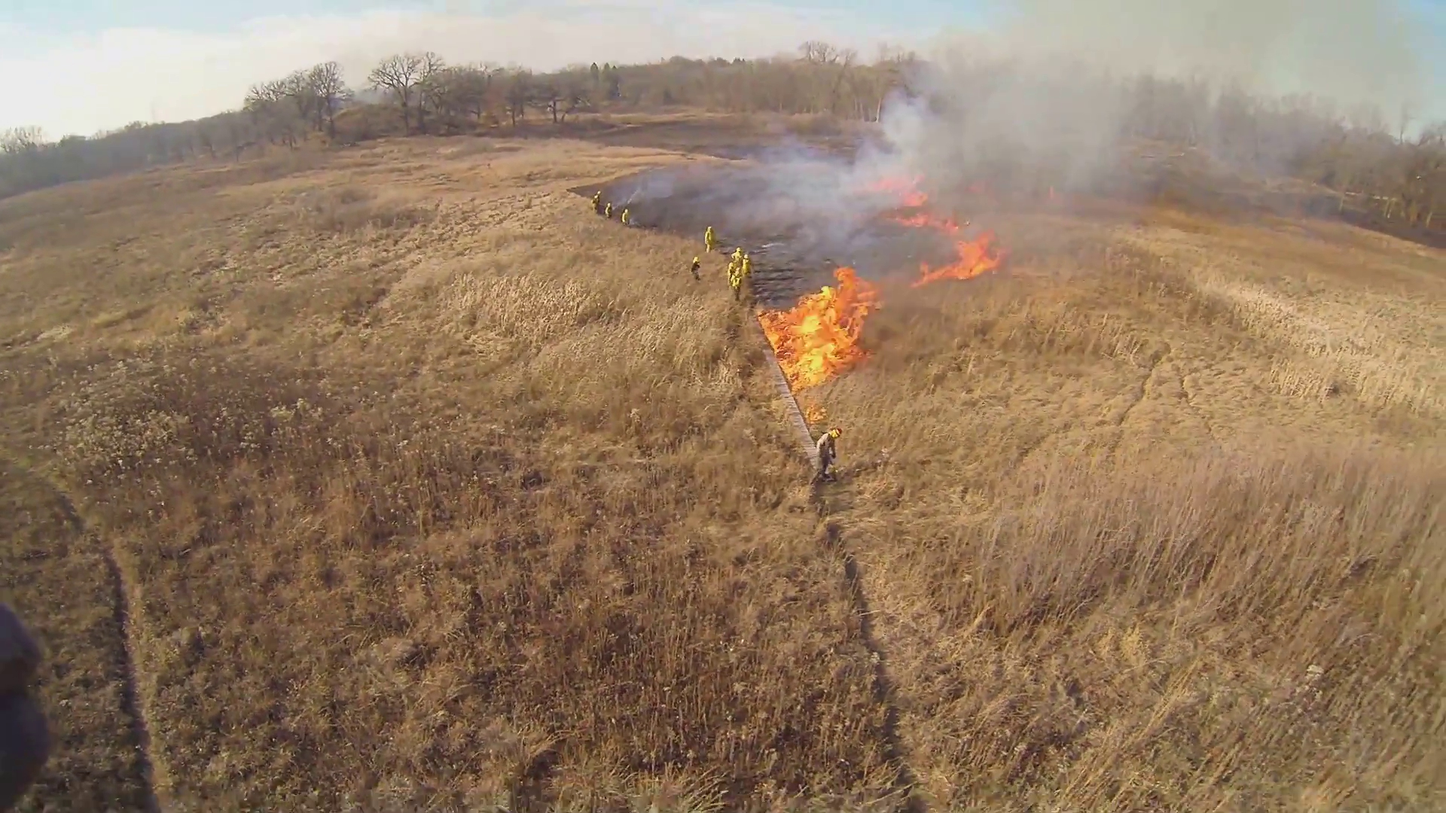forest_fire: (758, 266, 880, 391), (911, 233, 1003, 287)
